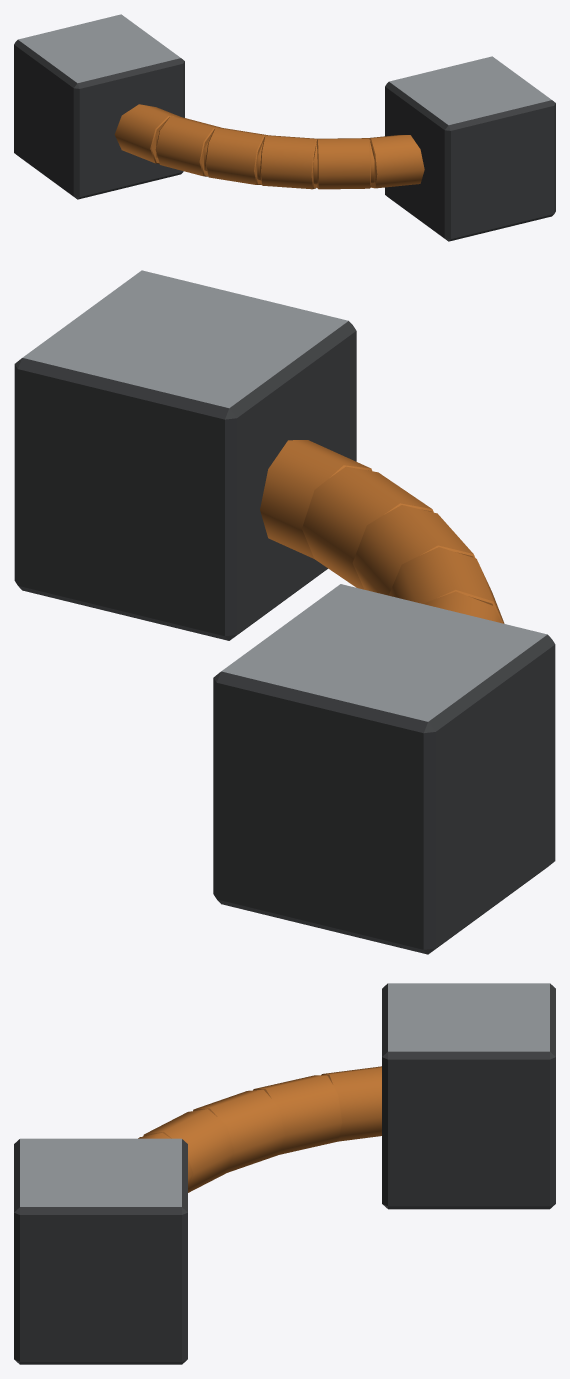
The model's file is R4C_STRUT_ARC_LOD1.fbx.
3 views of the same model, one above another, from view 1: azimuth 30°, elevation 25°; view 2: azimuth 150°, elevation 25°; view 3: azimuth 270°, elevation 25° (orthographic). The views are drawn at different scales.
Visible parts, largest first — view 1: R4C_STRUT_ARC_LOD1; view 2: R4C_STRUT_ARC_LOD1; view 3: R4C_STRUT_ARC_LOD1.
Part boxes in pixels (left/top/right/bottom): R4C_STRUT_ARC_LOD1: left=14, top=14, right=555, bottom=241; R4C_STRUT_ARC_LOD1: left=14, top=270, right=555, bottom=954; R4C_STRUT_ARC_LOD1: left=14, top=983, right=555, bottom=1364.
Size of the model in its own units: 1.62 by 0.52 by 1.62.
